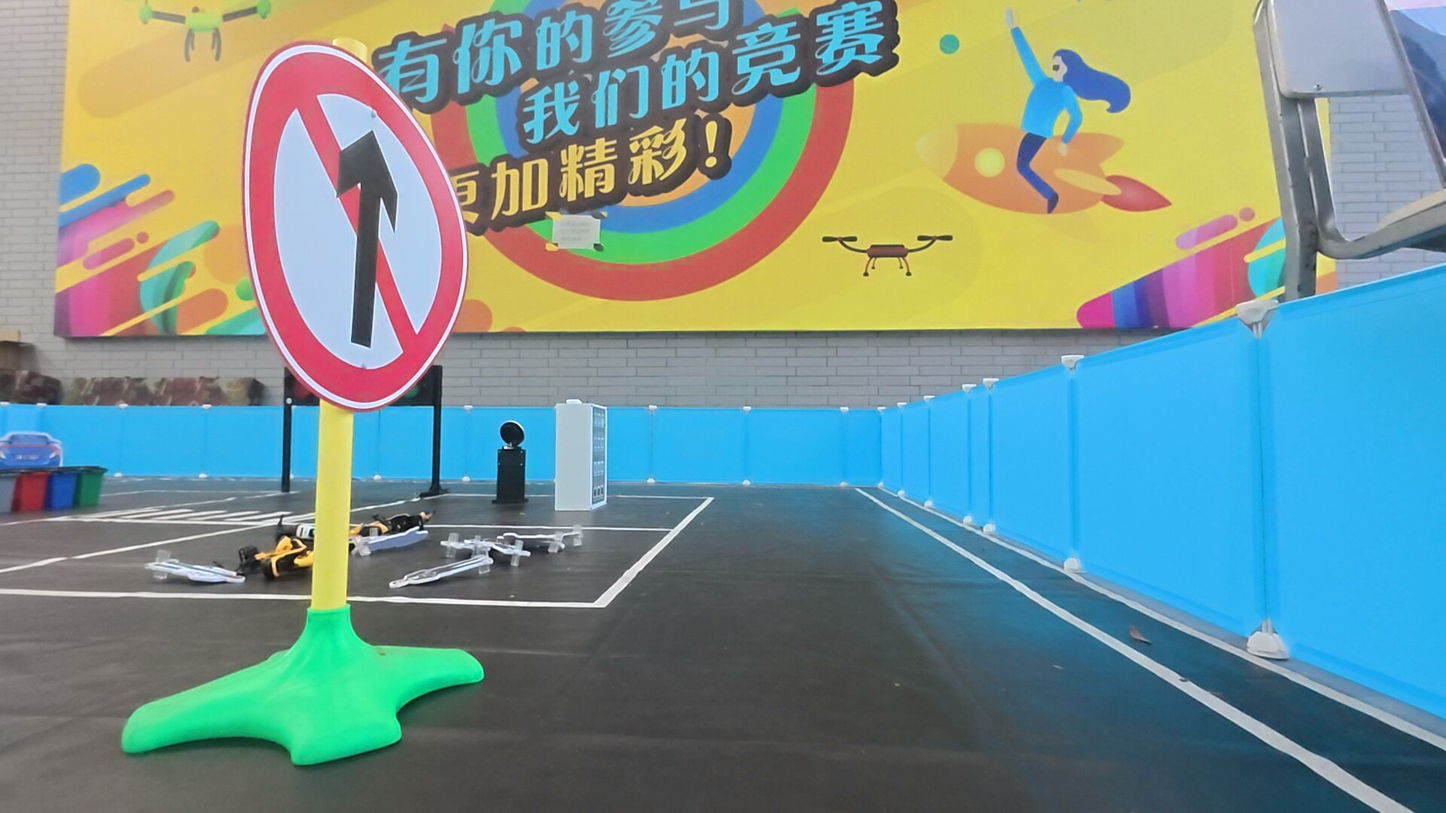obstacle: (231, 35, 470, 424)
